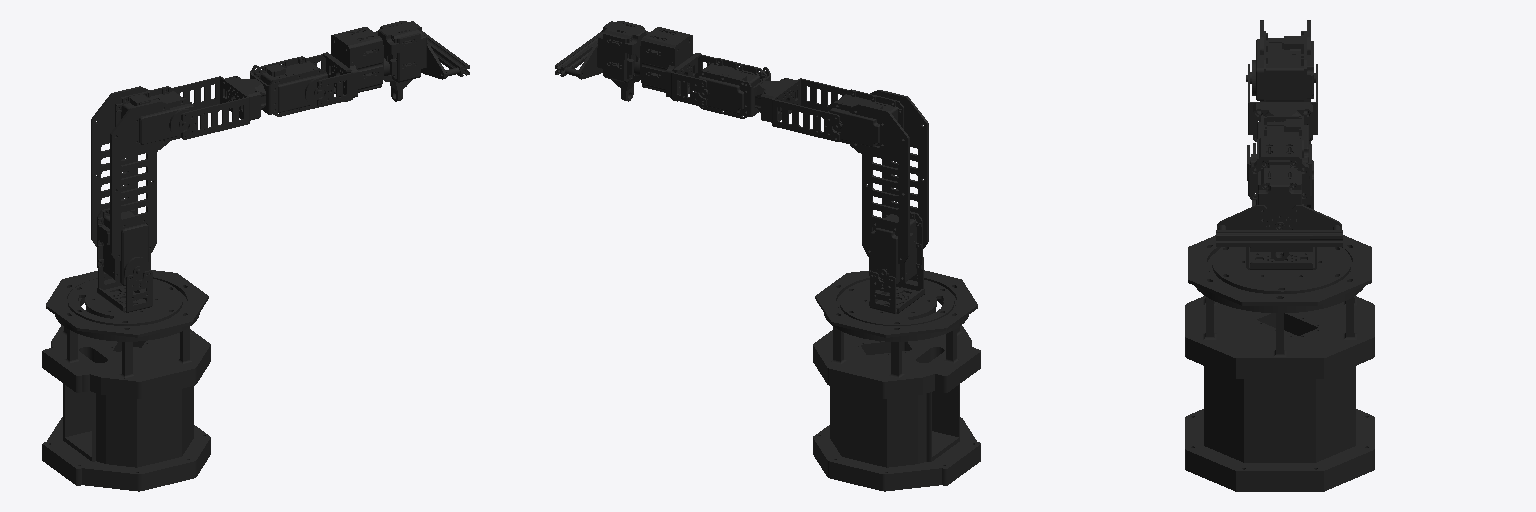
robot.urdf — widowxl:
<?xml version="1.0" ?>
<robot name="widowxl">
  
  <material name="interbotix_black">
    <color rgba="0.2 0.2 0.2 1.0"/>
  </material>

  <link name="widowxl/base_link">
    <visual>
      <origin rpy="0 0 0" xyz="0 0 0"/>
      <geometry>
        <mesh filename="package://my_widowxl_description/meshes/base_link.stl" scale="0.001 0.001 0.001"/>
      </geometry>
      <material name="interbotix_black"/>
    </visual>
    <collision>
      <origin rpy="0 0 0" xyz="0 0 0.05"/>
      <geometry>
        <cylinder length="0.1" radius="0.07"/>
      </geometry>
    </collision>
  </link>

  <joint name="waist" type="revolute">
    <axis xyz="0 0 1"/>
    <limit effort="10" lower="-3.1415" upper="3.1415" velocity="1.571"/>
    <origin rpy="0 0 0" xyz="0 0 0.167"/>
    <parent link="widowxl/base_link"/>
    <child link="widowxl/shoulder_link"/>
    <dynamics friction="0.1"/>
  </joint>

  <link name="widowxl/shoulder_link">
    <visual>
      <origin rpy="0 0 0" xyz="0 0 -0.167"/>
      <geometry>
        <mesh filename="package://my_widowxl_description/meshes/shoulder_link__4__1.stl" scale="0.001 0.001 0.001"/>
      </geometry>
      <material name="interbotix_black"/>
    </visual>
    <collision>
      <origin rpy="0 0 0" xyz="0 0 0"/>
      <geometry>
        <box size="0.05 0.05 0.05"/> </geometry>
    </collision>
    <inertial>
      <origin rpy="0 0 0" xyz="0 0 -0.167"/>
      <mass value="0.480879"/>
      <inertia ixx="0.000379" ixy="0.0" ixz="0.0" iyy="0.000555" iyz="0.0" izz="0.000588"/>
    </inertial>
  </link>

  <joint name="shoulder" type="revolute">
    <axis xyz="0 1 0"/>
    <limit effort="20" lower="-1.571" upper="1.571" velocity="1.571"/>
    <origin rpy="0 0 0" xyz="0 0 0.0367"/>
    <parent link="widowxl/shoulder_link"/>
    <child link="widowxl/upper_arm_link"/>
    <dynamics friction="0.1"/>
  </joint>

  <link name="widowxl/upper_arm_link">
    <visual>
      <origin rpy="0 0 0" xyz="0 0 -0.2"/>
      <geometry>
        <mesh filename="package://my_widowxl_description/meshes/biceps_link_1.stl" scale="0.001 0.001 0.001"/>
      </geometry>
      <material name="interbotix_black"/>
    </visual>
    <collision>
      <origin rpy="0 1.57 0" xyz="0.1 0 0"/>
      <geometry>
        <cylinder length="0.2" radius="0.03"/> </geometry>
    </collision>
    <inertial>
      <origin rpy="0 0 0" xyz="0 0 -0.2"/>
      <mass value="0.430811"/>
      <inertia ixx="0.003463" ixy="0.0" ixz="0.0" iyy="0.003587" iyz="0.0" izz="0.000456"/>
    </inertial>
  </link>

  <joint name="elbow" type="revolute">
    <axis xyz="0 1 0"/>
    <limit effort="15" lower="-1.571" upper="1.571" velocity="1.571"/>
    <origin rpy="0 0 0" xyz="0.05 0 0.145"/>
    <parent link="widowxl/upper_arm_link"/>
    <child link="widowxl/forearm_link"/>
    <dynamics friction="0.1"/>
  </joint>

  <link name="widowxl/forearm_link">
    <visual>
      <origin rpy="0 0 0" xyz="-0.05 0 -0.347"/>
      <geometry>
        <mesh filename="package://my_widowxl_description/meshes/forearm_link_1.stl" scale="0.001 0.001 0.001"/>
      </geometry>
      <material name="interbotix_black"/>
    </visual>
    <collision>
      <origin rpy="0 1.57 0" xyz="0.15 0 0"/>
      <geometry>
         <cylinder length="0.25" radius="0.025"/>
      </geometry>
    </collision>
    <inertial>
      <origin rpy="0 0 0" xyz="-0.05 0 -0.347"/>
      <mass value="0.297673"/>
      <inertia ixx="0.002176" ixy="0.0" ixz="0.0" iyy="0.000057" iyz="0.0" izz="0.002186"/>
    </inertial>
  </link>

  <joint name="wrist_angle" type="revolute">
    <axis xyz="0 1 0"/>
    <limit effort="5" lower="-1.745" upper="1.745" velocity="1.571"/>
    <origin rpy="0 0 0" xyz="0.15 0 0"/>
    <parent link="widowxl/forearm_link"/>
    <child link="widowxl/wrist_link"/>
    <dynamics friction="0.1"/>
  </joint>

  <link name="widowxl/wrist_link">
    <visual>
      <origin rpy="0 0 0" xyz="-0.2 0 -0.347"/>
      <geometry>
        <mesh filename="package://my_widowxl_description/meshes/wrist_1_1.stl" scale="0.001 0.001 0.001"/>
      </geometry>
      <material name="interbotix_black"/>
    </visual>
    <collision>
       <origin rpy="0 0 0" xyz="0 0 0"/>
       <geometry>
         <box size="0.05 0.03 0.03"/>
       </geometry>
    </collision>
    <inertial>
      <origin rpy="0 0 0" xyz="-0.2 0 -0.347"/>
      <mass value="0.084957"/>
      <inertia ixx="0.000030" ixy="0.0" ixz="0.0" iyy="0.000028" iyz="0.0" izz="0.000031"/>
    </inertial>
  </link>

  <joint name="wrist_rotate" type="revolute">
    <axis xyz="1 0 0"/>
    <limit effort="1" lower="-2.167" upper="2.167" velocity="1.571"/>
    <origin rpy="0 0 0" xyz="0.08 0 0"/>
    <parent link="widowxl/wrist_link"/>
    <child link="widowxl/wrist_2_link"/>
    <dynamics friction="0.1"/>
  </joint>

  <link name="widowxl/wrist_2_link">
    <visual>
      <origin rpy="0 0 0" xyz="-0.28 0.0 -0.347"/>
      <geometry>
        <mesh filename="package://my_widowxl_description/meshes/wrist_2_1.stl" scale="0.001 0.001 0.001"/>
      </geometry>
      <material name="interbotix_black"/>
    </visual>
    <inertial>
      <origin rpy="0 0 0" xyz="-0.28 0.0 -0.347"/>
      <mass value="0.072885"/>
      <inertia ixx="0.000025" ixy="0.0" ixz="0.0" iyy="0.000018" iyz="0.0" izz="0.000016"/>
    </inertial>
  </link>

  <joint name="ee_arm" type="fixed">
    <axis xyz="1 0 0"/>
    <origin rpy="0 0 0" xyz="0.043 0 0"/>
    <parent link="widowxl/wrist_2_link"/>
    <child link="widowxl/ee_arm_link"/>
  </joint>

  <link name="widowxl/ee_arm_link">
    <inertial>
      <mass value="0.001"/>
      <inertia ixx="0.001" ixy="0" ixz="0" iyy="0.001" iyz="0" izz="0.001"/>
    </inertial>
  </link>

  <joint name="gripper" type="continuous">
    <axis xyz="1 0 0"/>
    <limit effort="1" velocity="3.1415"/>
    <origin rpy="0 0 0" xyz="0.0055 0 0"/>
    <parent link="widowxl/ee_arm_link"/>
    <child link="widowxl/gripper_prop_link"/>
  </joint>

  <link name="widowxl/gripper_prop_link">
    <inertial>
      <mass value="0.00434"/>
      <inertia ixx="0.0000005" ixy="0.0" ixz="0.0" iyy="0.0000011" iyz="0.0" izz="0.0000005"/>
    </inertial>
  </link>
  
  </robot>

--- Facts derived from the render (not from the file) ---
The picture shows the robot from 3 angles, left to right: view 1: azimuth 30°, elevation 25°; view 2: azimuth 150°, elevation 25°; view 3: azimuth 270°, elevation 25°; orthographic projection.
Robot: widowxl — 8 links, 7 joints (5 revolute, 1 continuous, 1 fixed); root link widowxl/base_link; default pose: all joints at 0.
Visible links, largest first — view 1: widowxl/base_link, widowxl/upper_arm_link, widowxl/forearm_link, widowxl/shoulder_link, widowxl/wrist_link, widowxl/wrist_2_link; view 2: widowxl/base_link, widowxl/upper_arm_link, widowxl/forearm_link, widowxl/shoulder_link, widowxl/wrist_link, widowxl/wrist_2_link; view 3: widowxl/base_link, widowxl/wrist_2_link, widowxl/shoulder_link, widowxl/upper_arm_link, widowxl/forearm_link, widowxl/wrist_link.
Boxes of the visible links, x1,y1,x2,y2 form: widowxl/base_link: (42,270,210,491); widowxl/upper_arm_link: (91,86,194,285); widowxl/forearm_link: (172,56,330,139); widowxl/shoulder_link: (68,269,182,325); widowxl/wrist_link: (301,27,383,106); widowxl/wrist_2_link: (374,21,469,101); widowxl/base_link: (813,270,980,491); widowxl/upper_arm_link: (826,89,928,287); widowxl/forearm_link: (695,58,848,141); widowxl/shoulder_link: (840,257,954,325); widowxl/wrist_link: (640,27,719,106); widowxl/wrist_2_link: (555,21,649,101); widowxl/base_link: (1185,235,1374,491); widowxl/wrist_2_link: (1216,165,1342,260); widowxl/shoulder_link: (1212,247,1350,293); widowxl/upper_arm_link: (1246,20,1315,209); widowxl/forearm_link: (1248,64,1317,163); widowxl/wrist_link: (1247,137,1311,199).
Size in the robot's own frame: 0.4247 by 0.1496 by 0.3851 metres.
6 mesh visuals loaded from 6 distinct referenced files (6 binary STL).
